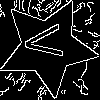V: (23, 22, 72, 61)
